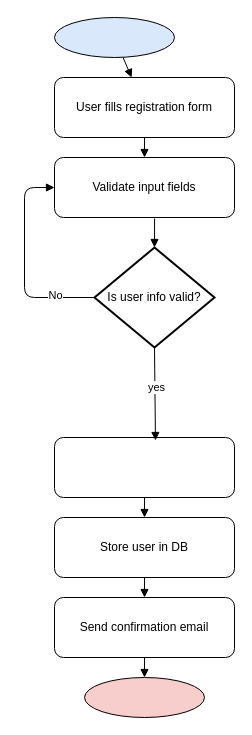
Some shapes in this 252 by 735 pixel diagram are drawn without their labels. Each missing label, with the centre of its shape:
End: the point at 144,697
Hash password: the point at 144,467
Start: the point at 114,37
